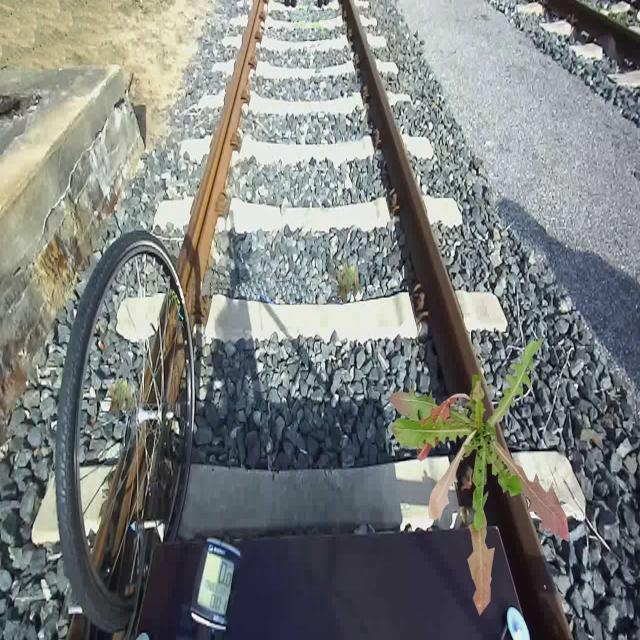Plant: (389, 339, 569, 617), (337, 261, 363, 304), (109, 376, 135, 418)
